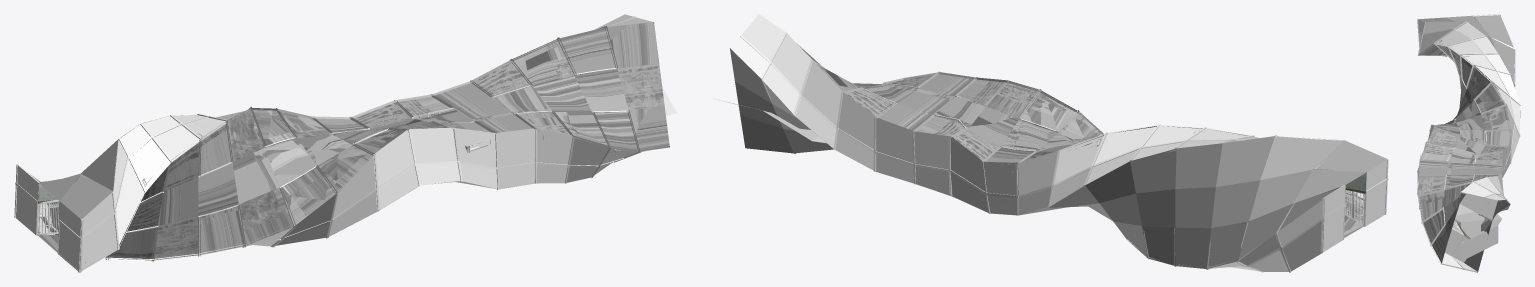
The model's file is Laberinto.fbx.
The picture shows the model from 3 angles, left to right: view 1: azimuth 30°, elevation 25°; view 2: azimuth 150°, elevation 25°; view 3: azimuth 270°, elevation 25°; orthographic projection. The views are drawn at different scales.
Visible parts, largest first — view 1: PrisonDoor_1.002; view 2: PrisonDoor_1.002; view 3: PrisonDoor_1.002, Plane.002.
Part boxes in pixels (x1=…): PrisonDoor_1.002: x1=14, y1=14, x2=669, y2=272; PrisonDoor_1.002: x1=730, y1=14, x2=1388, y2=272; PrisonDoor_1.002: x1=1417, y1=14, x2=1520, y2=272; Plane.002: x1=1455, y1=204, x2=1501, y2=260.
Bounding box in the file's own units: 98.56 × 21.64 × 22.09.
